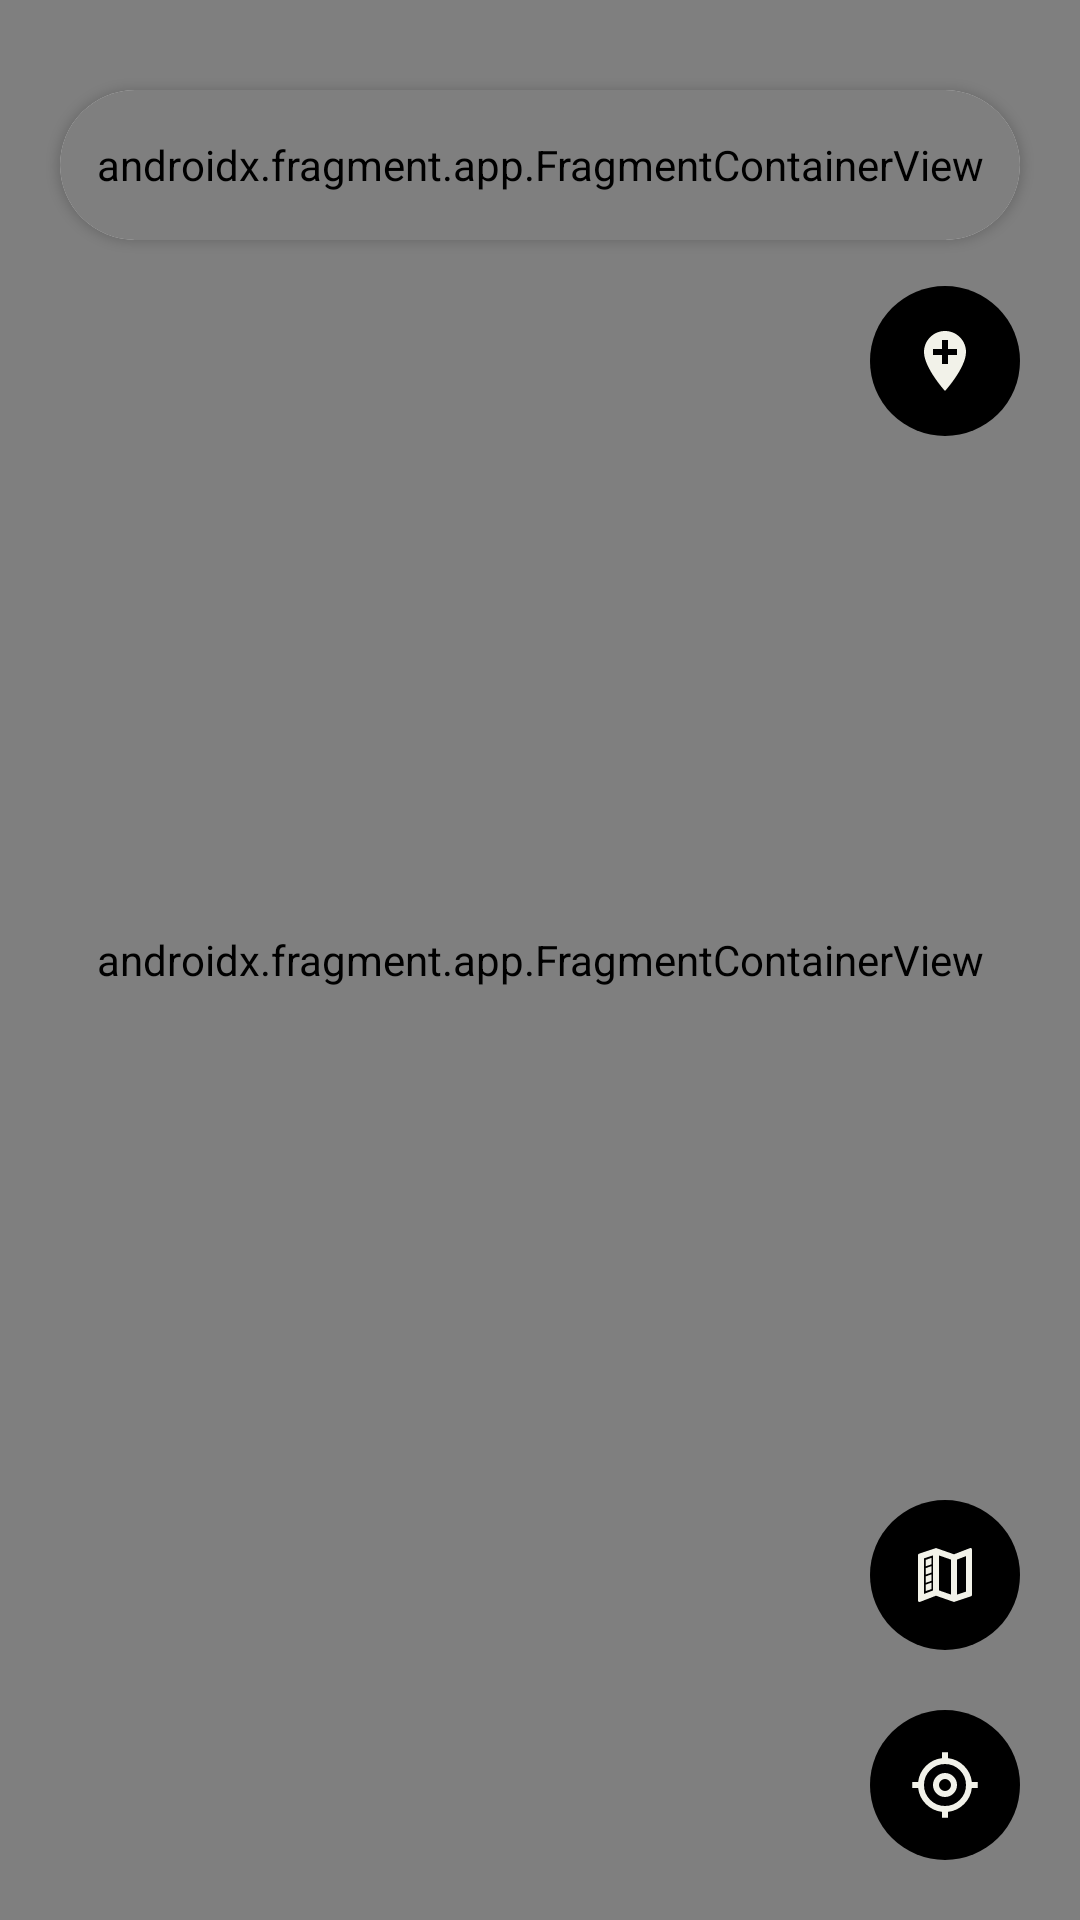

Where icons sit on this 1080w x 1920h app screen, as (x1, y1, x2, y2):
add location: (870, 286, 1020, 436)
center map: (870, 1710, 1020, 1860)
map legend: (870, 1500, 1020, 1650)
